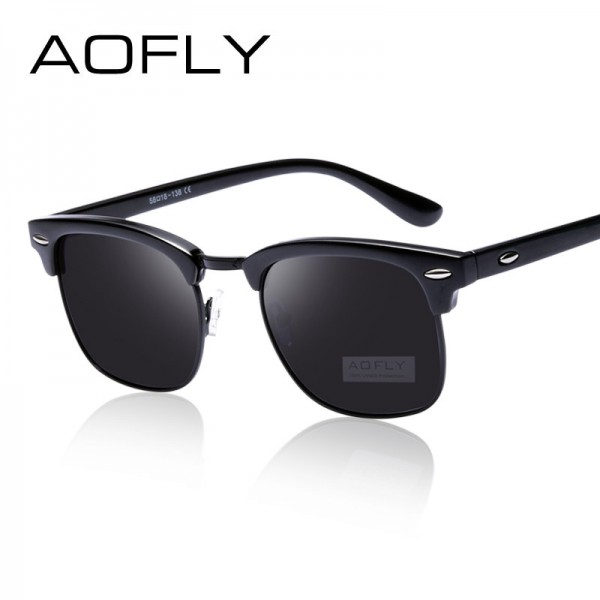sunglasses: (7, 205, 499, 429)
